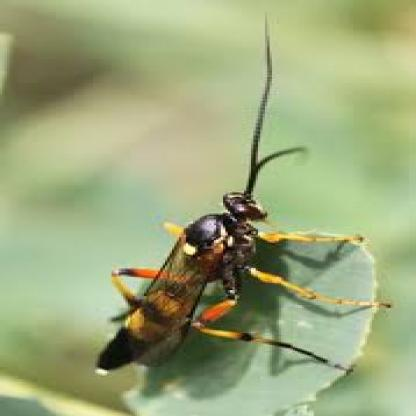sawfly: (93, 26, 388, 391)
